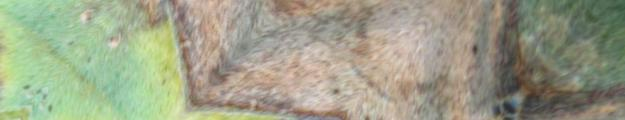Tomato leaf late blight: (59, 0, 563, 120)
